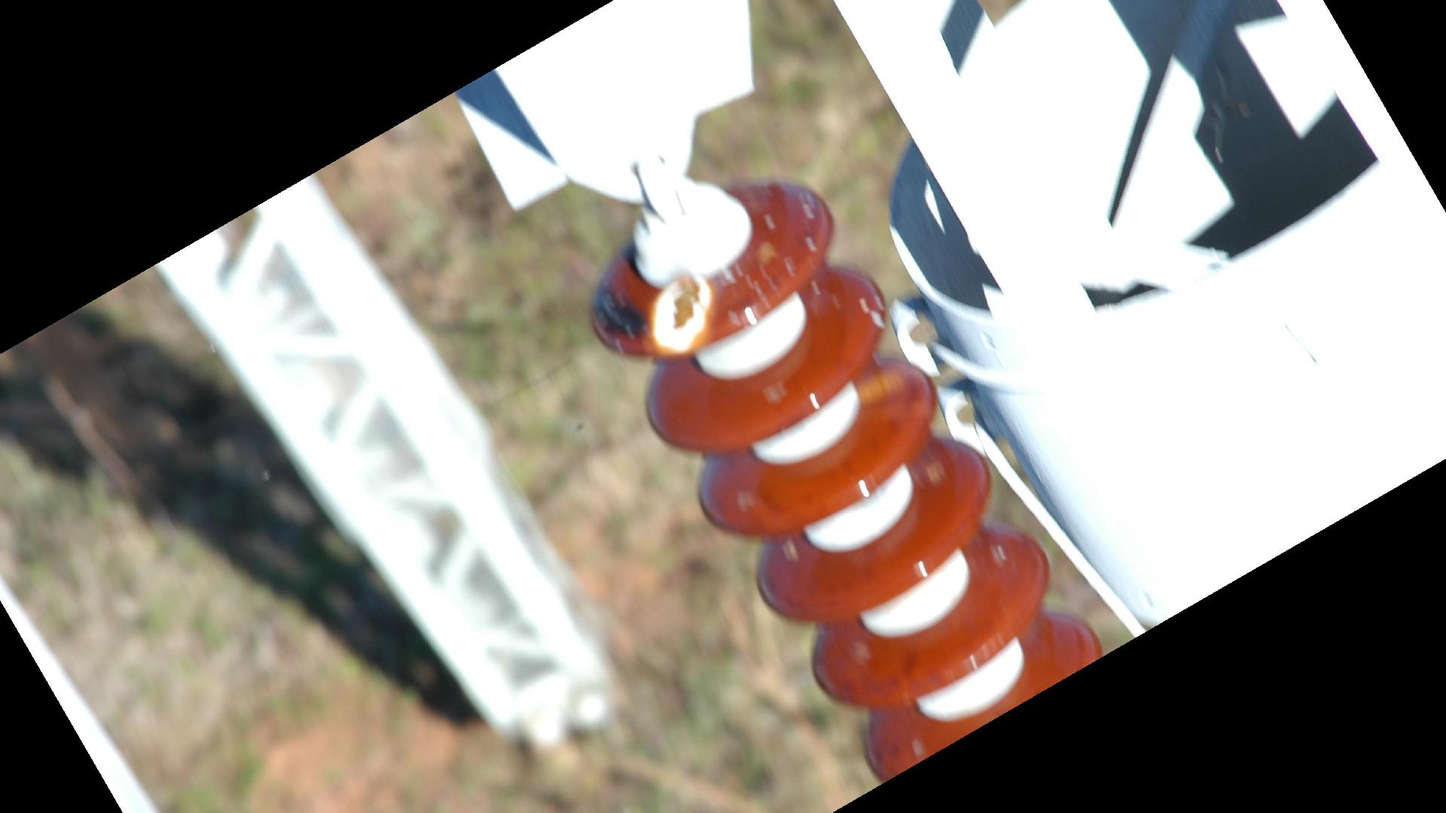insulator: (583, 171, 1111, 789)
insulator_flashover: (645, 268, 715, 358), (853, 359, 912, 403)
